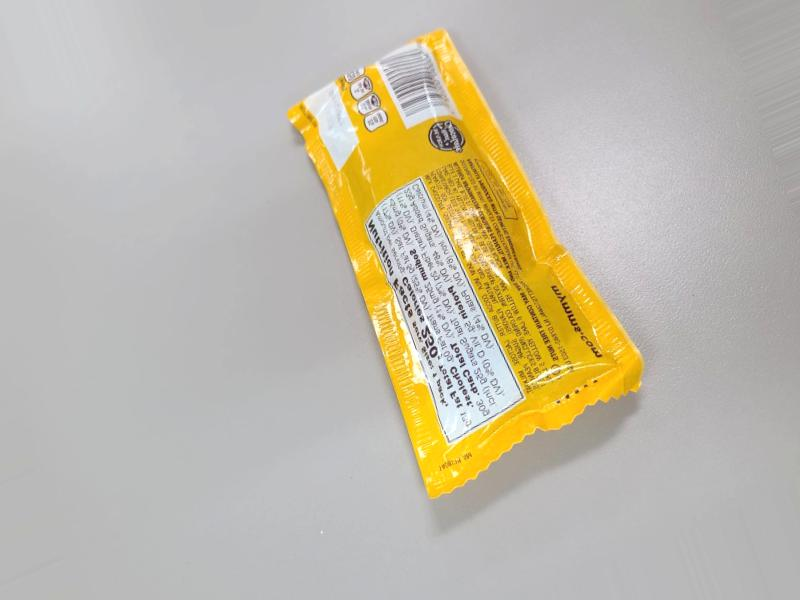m&m: (342, 47, 694, 500)
